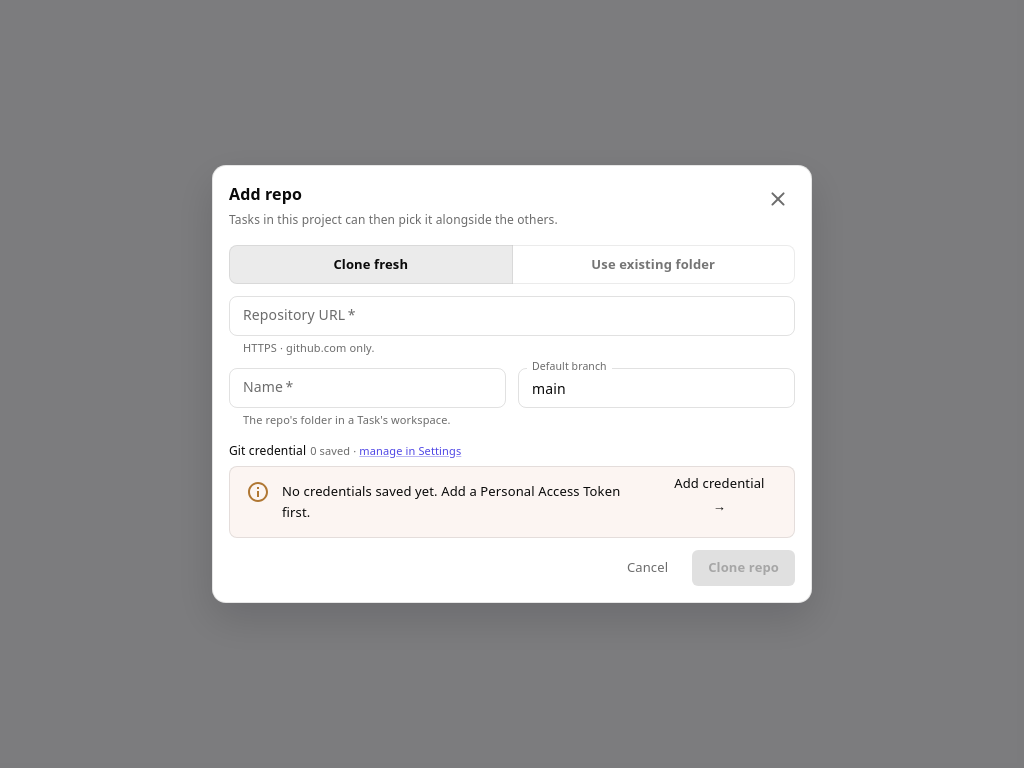
it: AddRepoDialog › shows the API error when the clone cannot start, and stays open
Type "https://github.com/acme/web.git" into the field labelled "Repository URL *" at (512, 316), box top-left (229, 296), bottom-right (795, 336)
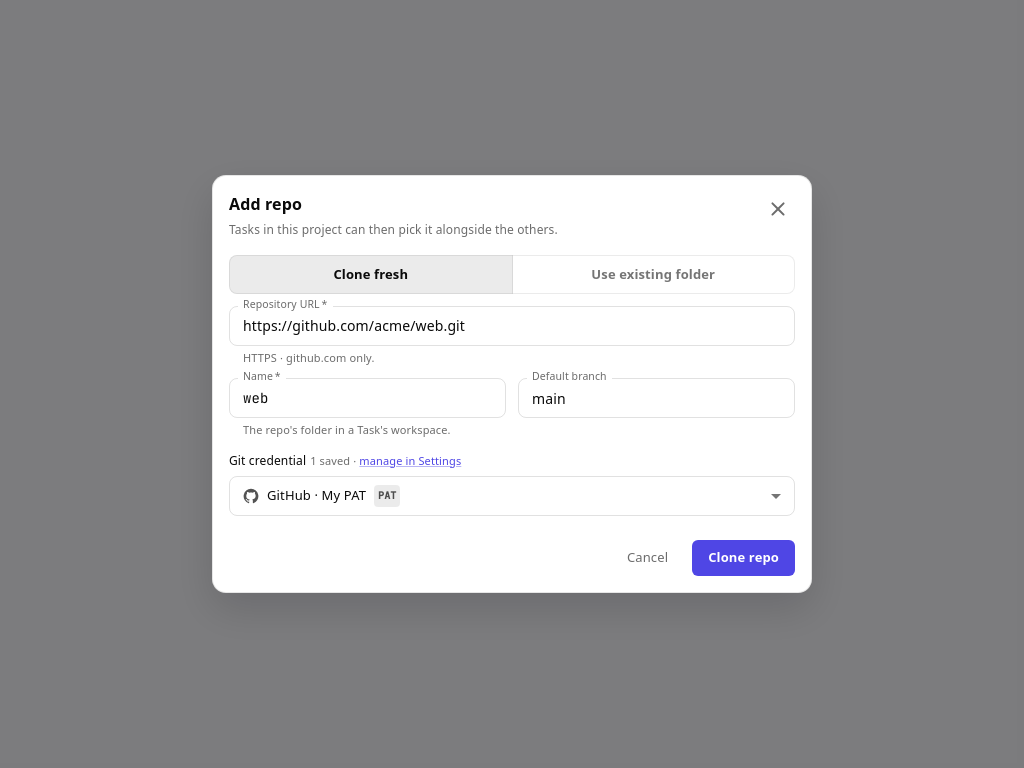
Check: the button "Clone repo" is enabled
Click the button "Clone repo" at (744, 558), box top-left (692, 540), bottom-right (795, 576)
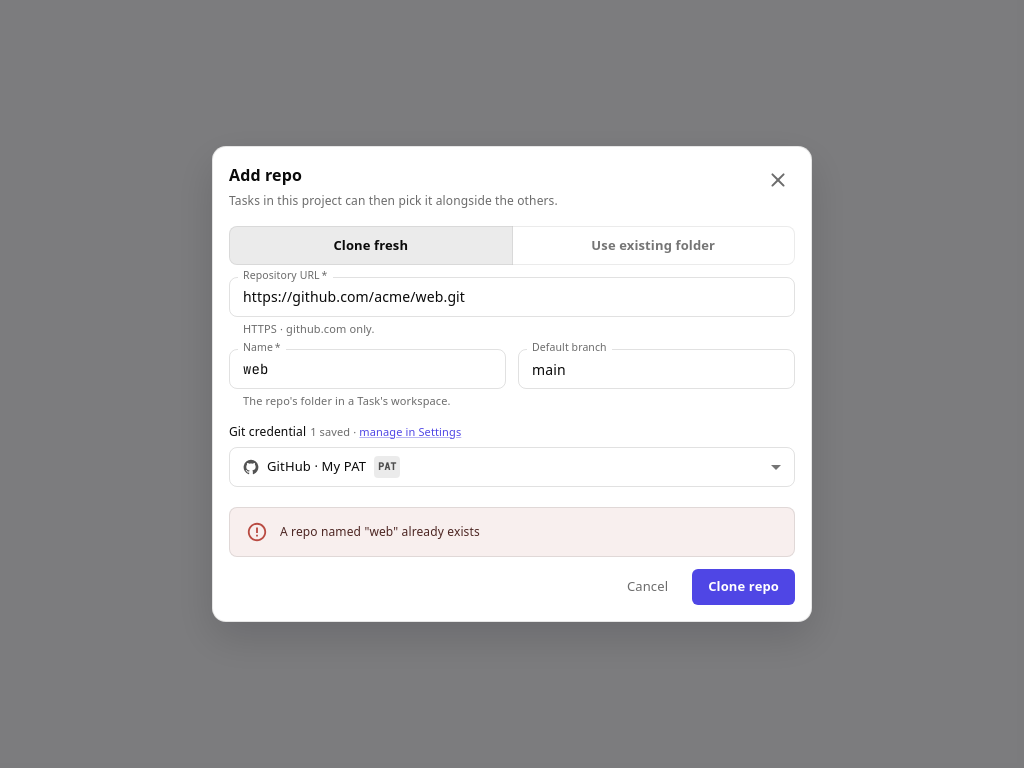
Check: the button "Clone repo" is enabled, box top-left (692, 569), bottom-right (795, 605)
Check: the text "A repo named \"web\" already exists" is shown, box top-left (280, 523), bottom-right (480, 540)
